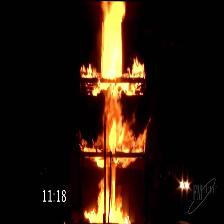fire: (89, 0, 132, 223)
